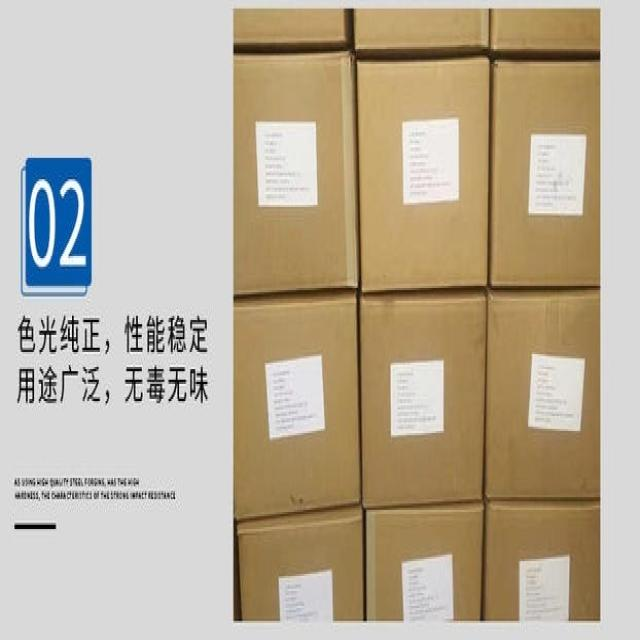box: (356, 55, 489, 297), (234, 47, 361, 299), (233, 295, 361, 523), (358, 294, 487, 506), (490, 58, 600, 289), (483, 289, 600, 502), (237, 505, 366, 619), (482, 503, 600, 619), (364, 505, 484, 619), (351, 9, 489, 55), (489, 10, 600, 58), (234, 8, 352, 52)
